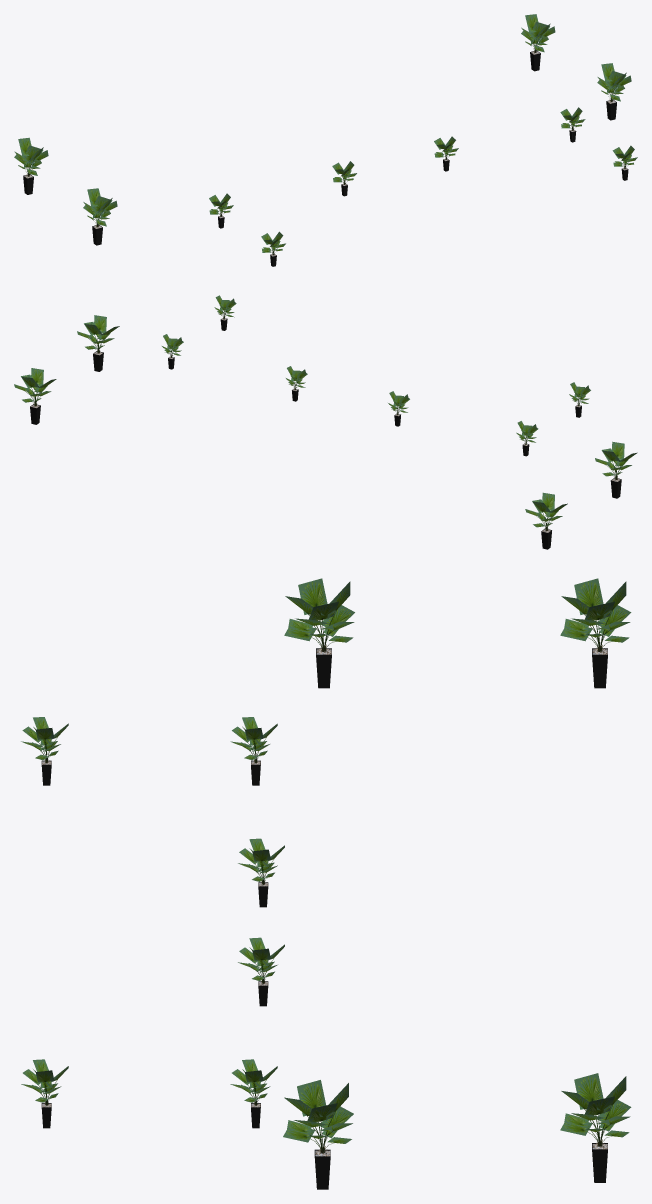
The model's file is MeshBaker (2)-mesh-mesh.fbx.
3 views of the same model, one above another, from view 1: azimuth 30°, elevation 25°; view 2: azimuth 150°, elevation 25°; view 3: azimuth 270°, elevation 25° (orthographic). The views are drawn at different scales.
Parts seen in each view (by area): view 1: MeshBaker__2__mesh_mesh; view 2: MeshBaker__2__mesh_mesh; view 3: MeshBaker__2__mesh_mesh.
Boxes of the visible parts, <box> form: MeshBaker__2__mesh_mesh: <box>14,14,637,266</box>; MeshBaker__2__mesh_mesh: <box>14,295,637,549</box>; MeshBaker__2__mesh_mesh: <box>21,578,631,1189</box>.
Bounding box in the file's own units: 3135 × 277 × 1516.
